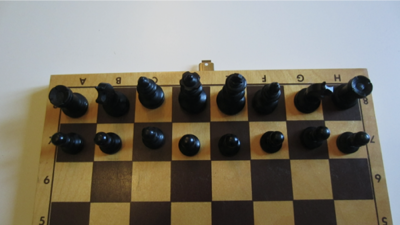black-bishop: (252, 82, 282, 116), (136, 77, 166, 110)
black-king: (217, 73, 247, 116)
black-knight: (294, 82, 335, 115), (95, 82, 130, 118)
black-pawn: (336, 131, 371, 154), (51, 132, 84, 155), (301, 126, 331, 150), (94, 132, 123, 155), (260, 131, 286, 154), (218, 134, 242, 157), (142, 127, 165, 150), (178, 134, 201, 157)
black-queen: (178, 71, 208, 114)
black-rook: (48, 85, 90, 119), (333, 76, 374, 110)
